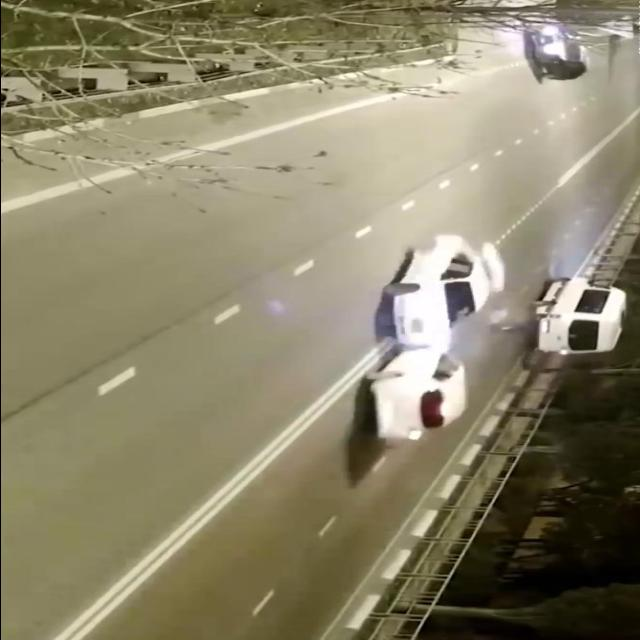accident: (348, 222, 526, 466)
